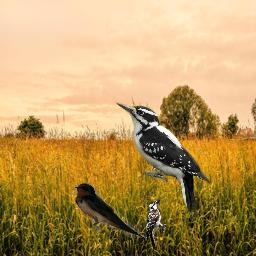Swallow: (73, 182, 143, 238)
Woodpecker: (115, 99, 210, 223), (144, 198, 166, 254)
